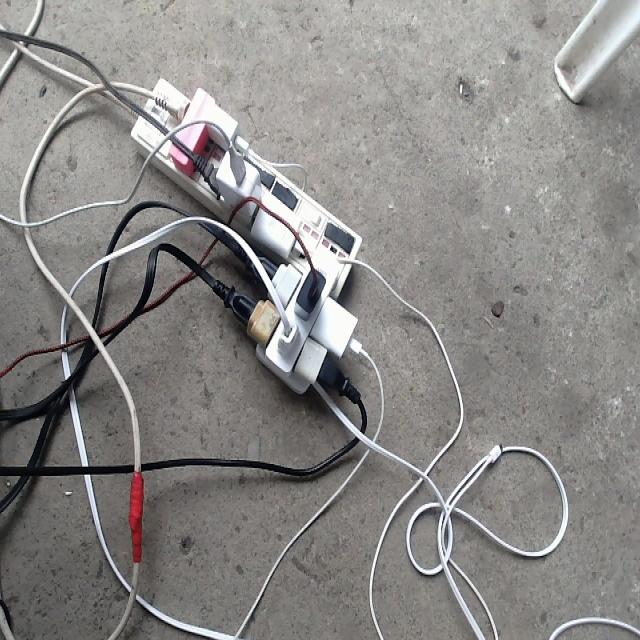-: (130, 73, 374, 404)
